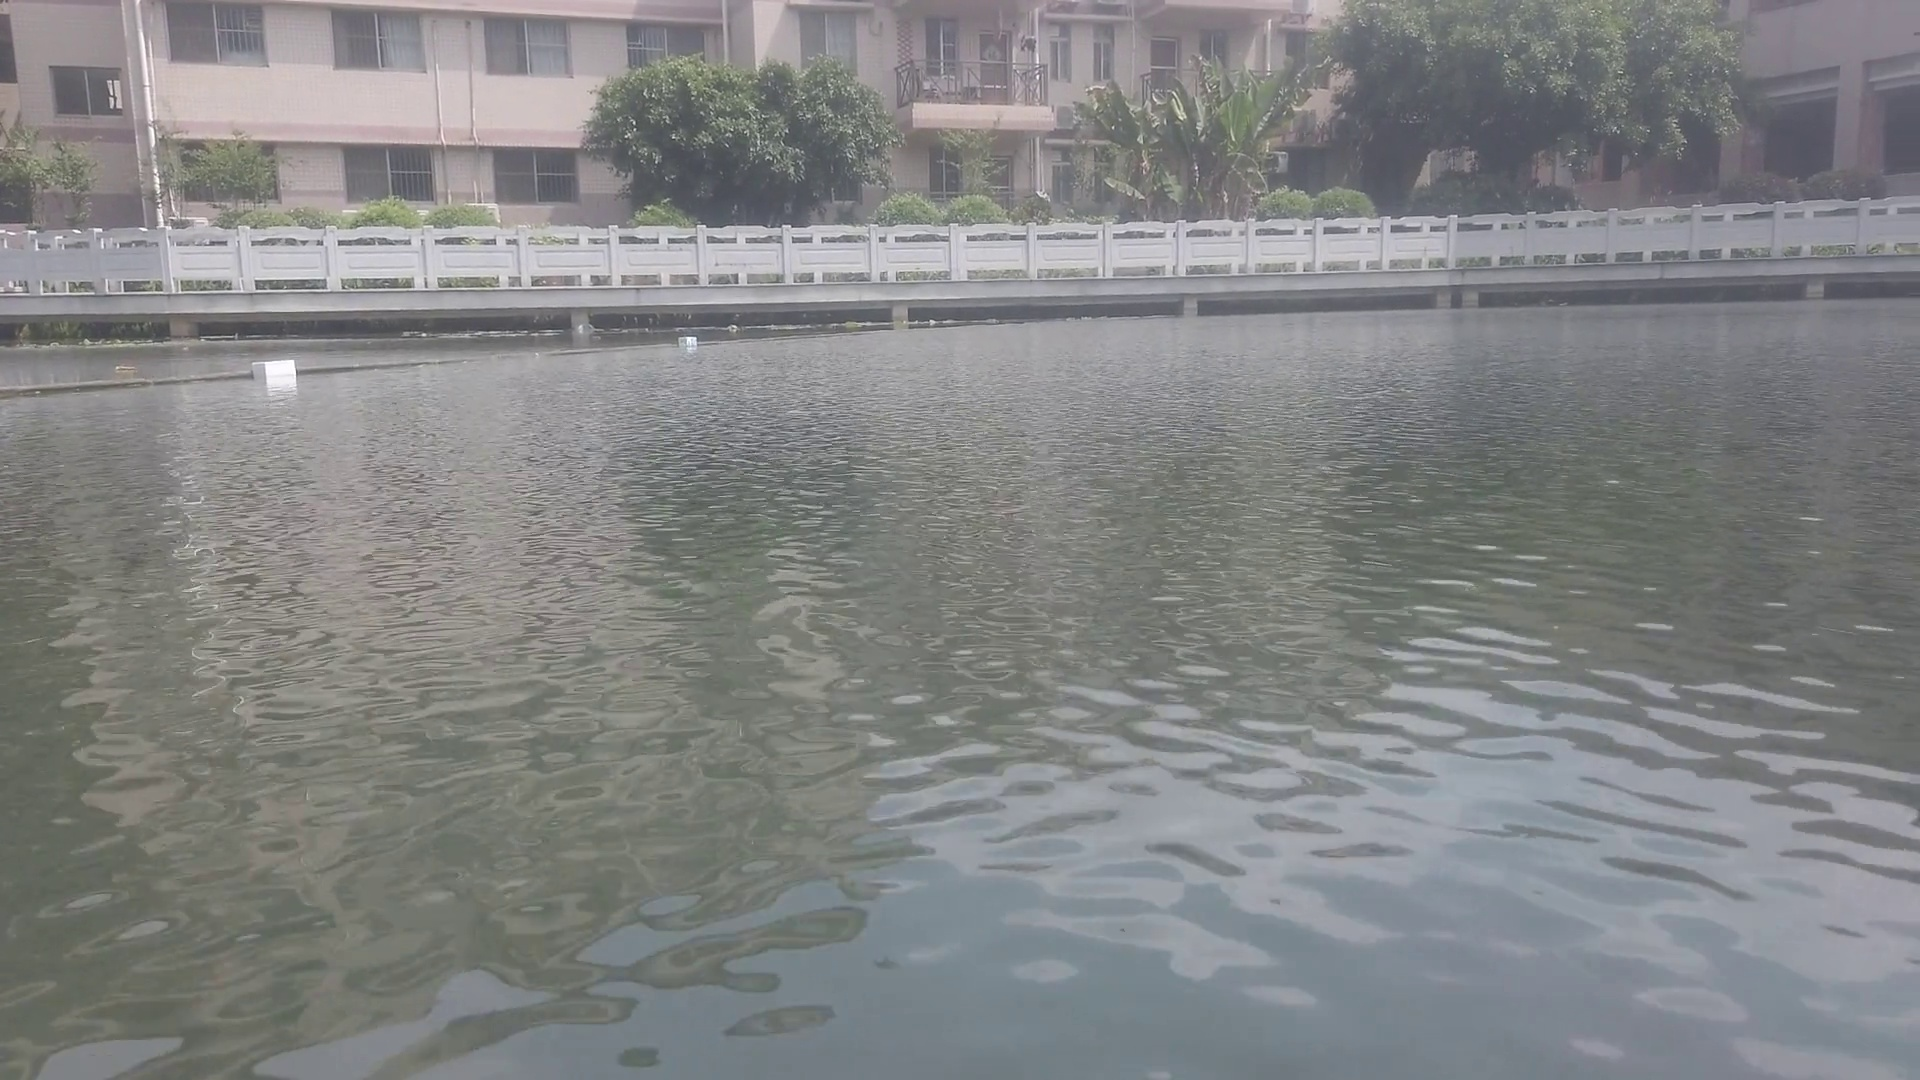carton: (251, 355, 299, 380), (676, 335, 703, 347)
